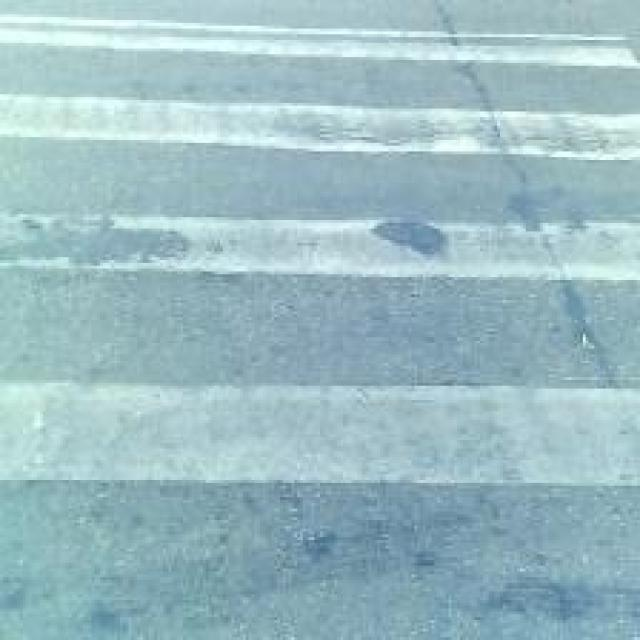zebra: (4, 4, 596, 602)
